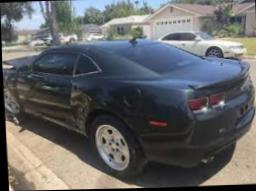Door: (17, 91, 67, 127)
Fender: (68, 83, 107, 136), (4, 71, 23, 96)
